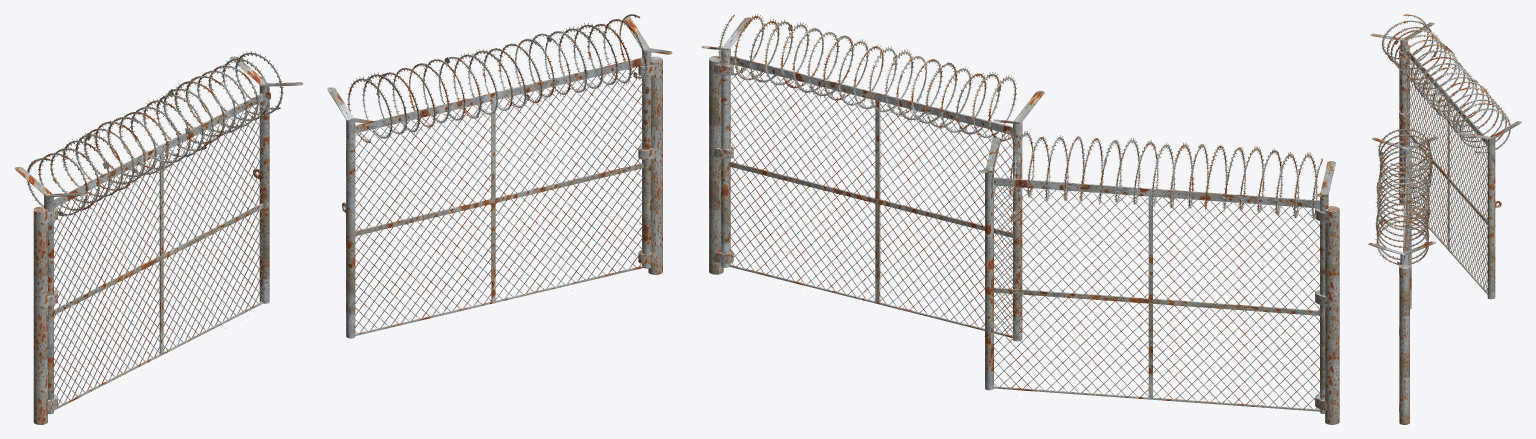
Rendered from military fence gate.FBX.
3 views of the same model, side by side, from view 1: azimuth 30°, elevation 25°; view 2: azimuth 150°, elevation 25°; view 3: azimuth 270°, elevation 25° (orthographic). The views are drawn at different scales.
Parts seen in each view (by area): view 1: Cylinder288, Cylinder299, Cylinder233, Cylinder295, Cylinder300, Cylinder291, Spring323, Spring327, Spring324, Spring326, Spring321, Spring325 (+10 smaller); view 2: Cylinder299, Cylinder288, Cylinder233, Cylinder295, Cylinder300, Cylinder291, Spring316, Spring320, Spring315, Spring318, Spring313, Spring319 (+10 smaller); view 3: Cylinder299, Cylinder291, Cylinder300, Cylinder288, Spring325, Spring320, Spring315, Spring326, Spring323, Spring328, Spring324, Spring317 (+40 smaller).
Part boxes in pixels (x1,y1,x2,y2): Cylinder288: [327, 57, 643, 338]; Cylinder299: [54, 56, 303, 410]; Cylinder233: [355, 17, 672, 268]; Cylinder295: [33, 206, 47, 424]; Cylinder300: [14, 167, 263, 414]; Cylinder291: [648, 56, 662, 274]; Spring323: [83, 117, 157, 185]; Spring327: [54, 132, 130, 203]; Spring324: [162, 81, 236, 148]; Spring326: [185, 65, 259, 134]; Spring321: [106, 106, 181, 175]; Spring325: [209, 51, 283, 121]; Cylinder299: [978, 137, 1319, 411]; Cylinder288: [729, 56, 1044, 341]; Cylinder233: [701, 17, 1012, 267]; Cylinder295: [1325, 206, 1339, 424]; Cylinder300: [994, 161, 1335, 413]; Cylinder291: [709, 55, 723, 274]; Spring316: [895, 55, 957, 124]; Spring320: [718, 14, 780, 80]; Spring315: [792, 28, 854, 97]; Spring318: [925, 63, 987, 133]; Spring313: [822, 38, 884, 105]; Spring319: [753, 19, 820, 88]; Cylinder299: [1404, 46, 1521, 299]; Cylinder291: [1399, 264, 1409, 424]; Cylinder300: [1370, 22, 1487, 224]; Cylinder288: [1372, 136, 1439, 309]; Spring325: [1455, 101, 1510, 153]; Spring320: [1375, 215, 1429, 264]; Spring315: [1376, 186, 1431, 236]; Spring326: [1446, 87, 1504, 139]; Spring323: [1399, 39, 1456, 90]; Spring328: [1380, 14, 1438, 66]; Spring324: [1432, 76, 1489, 127]; Spring317: [1378, 128, 1432, 178].
Size of the model in its own units: 30.24 by 12.07 by 8.71.
Materials: 1 (1 with a texture image).
